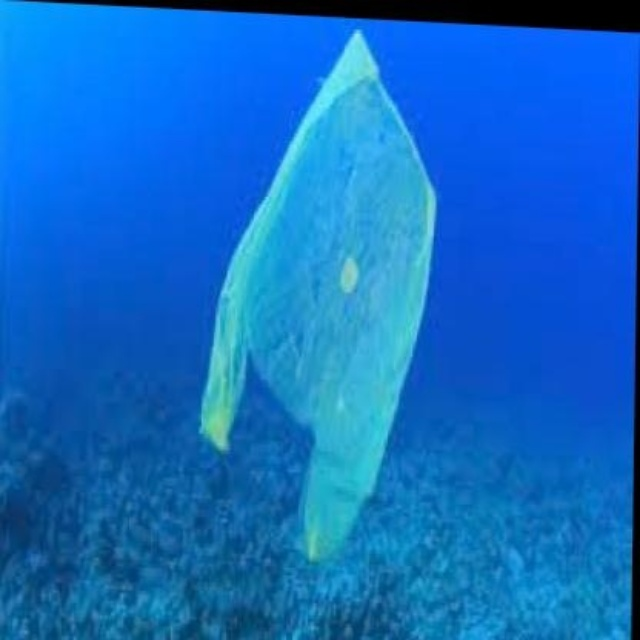trash: (202, 31, 434, 562)
